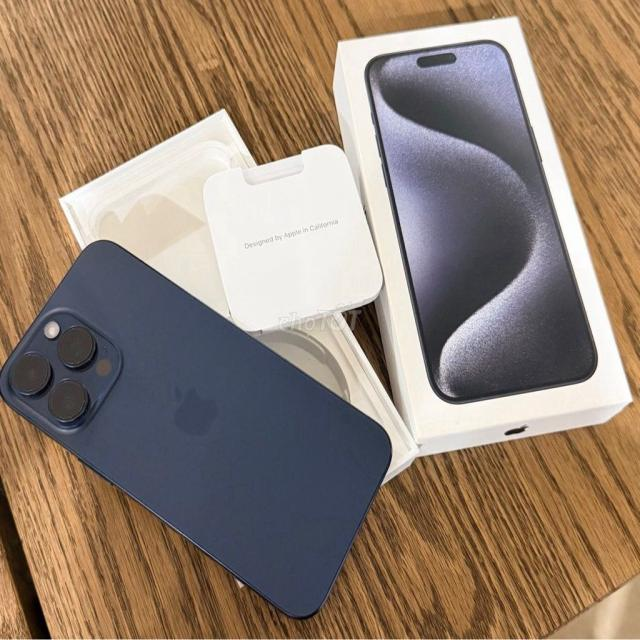gen_15: (0, 227, 396, 631)
